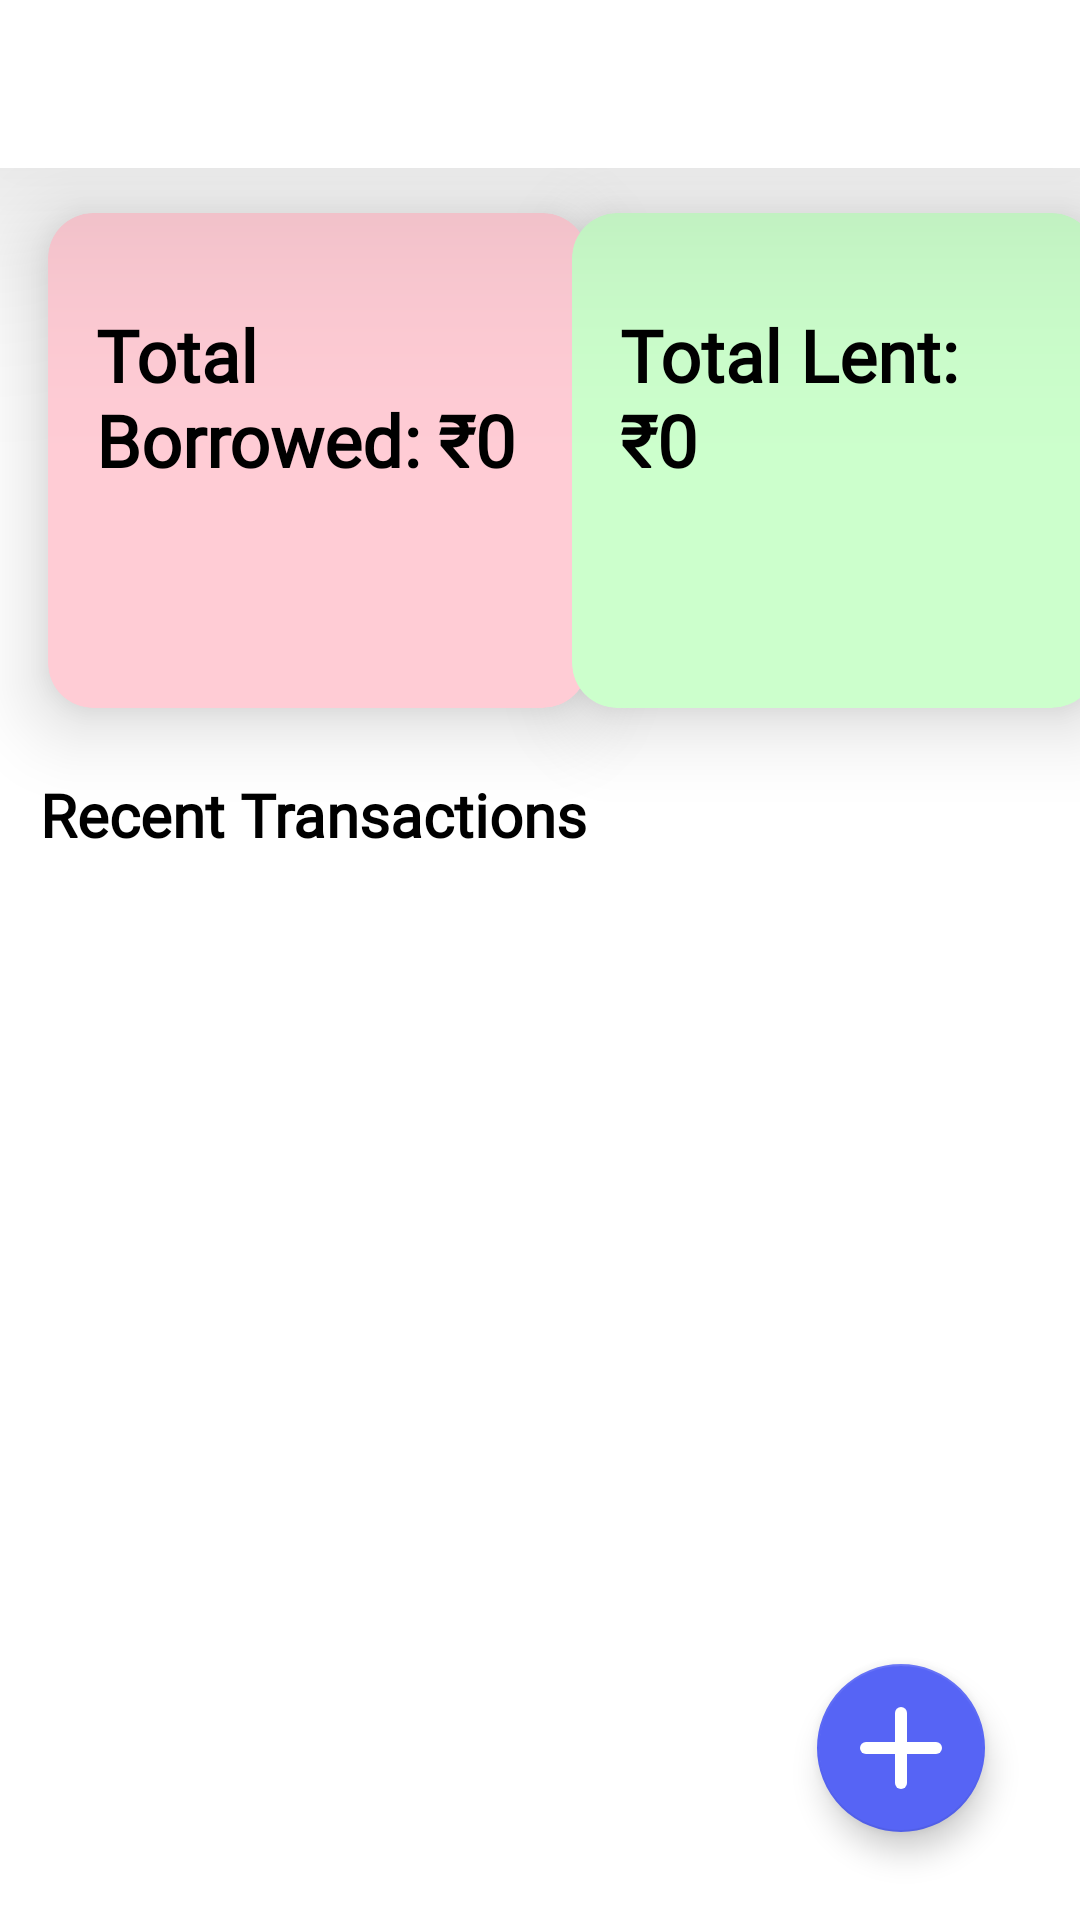

Named icons in this screenshot (1080×1920) and their centers, (x=x, y=y):
add: (x=901, y=1748)
